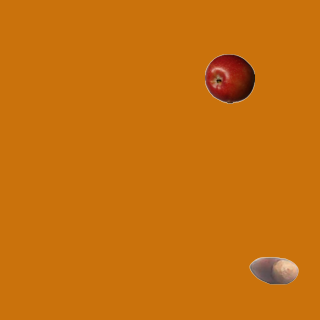Apple Braeburn: (204, 53, 254, 103)
Hazelnut: (248, 245, 298, 295)
